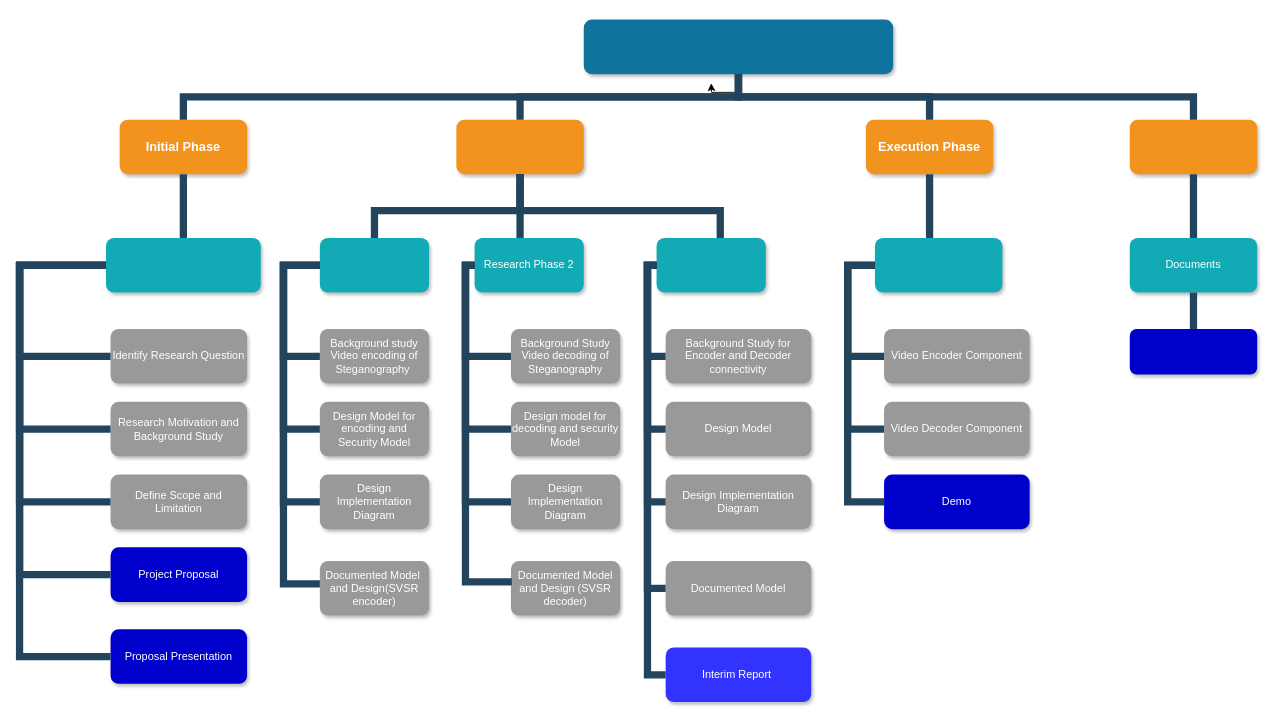
The diagram is 1278 pixels wide and 723 high, and some of its shapes have lost their labels. The centre of each missing label's shape, as x and y in pixels:
Closeout Phase: the point at 1194,148
Implementation: the point at 939,266
Planing Phase: the point at 520,148
Requirements Gathering and Analyzing: the point at 184,266
Research Phase 3: the point at 711,266
Research Phase1: the point at 375,266
SVSR Research Project: the point at 739,47
Thesis: the point at 1194,352
